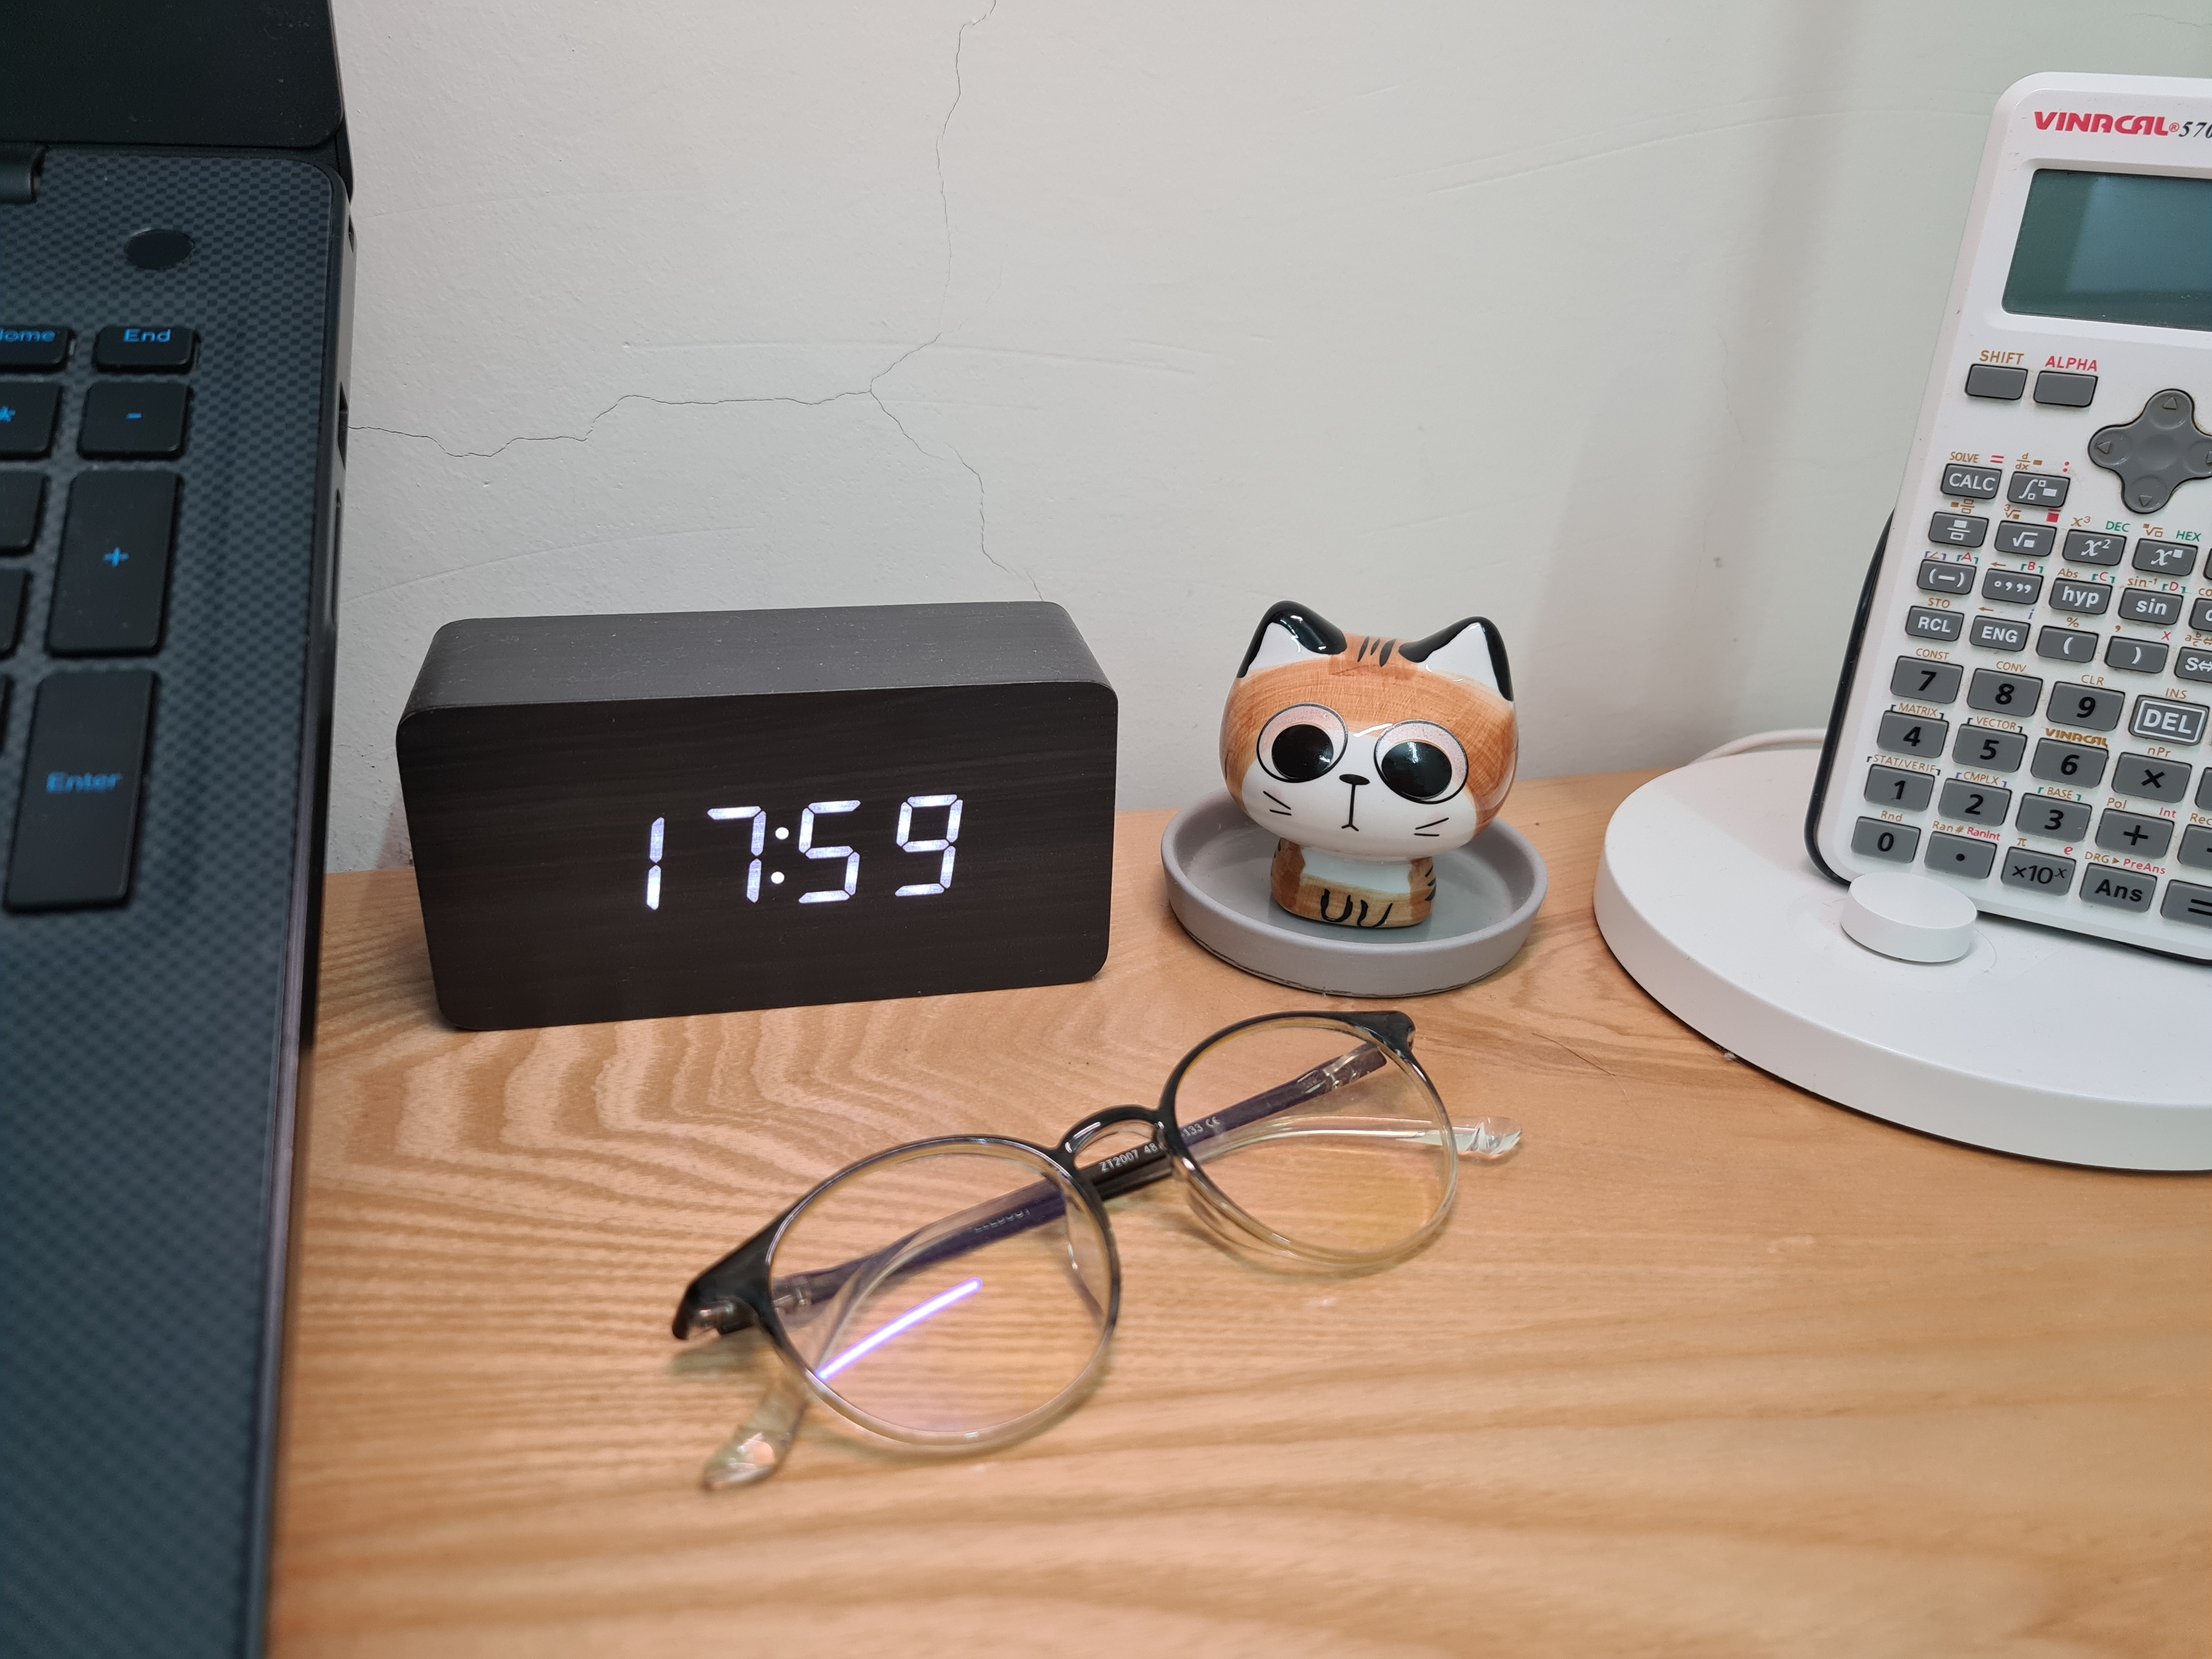calculator: (1804, 70, 2212, 967)
cat: (1219, 599, 1521, 931)
